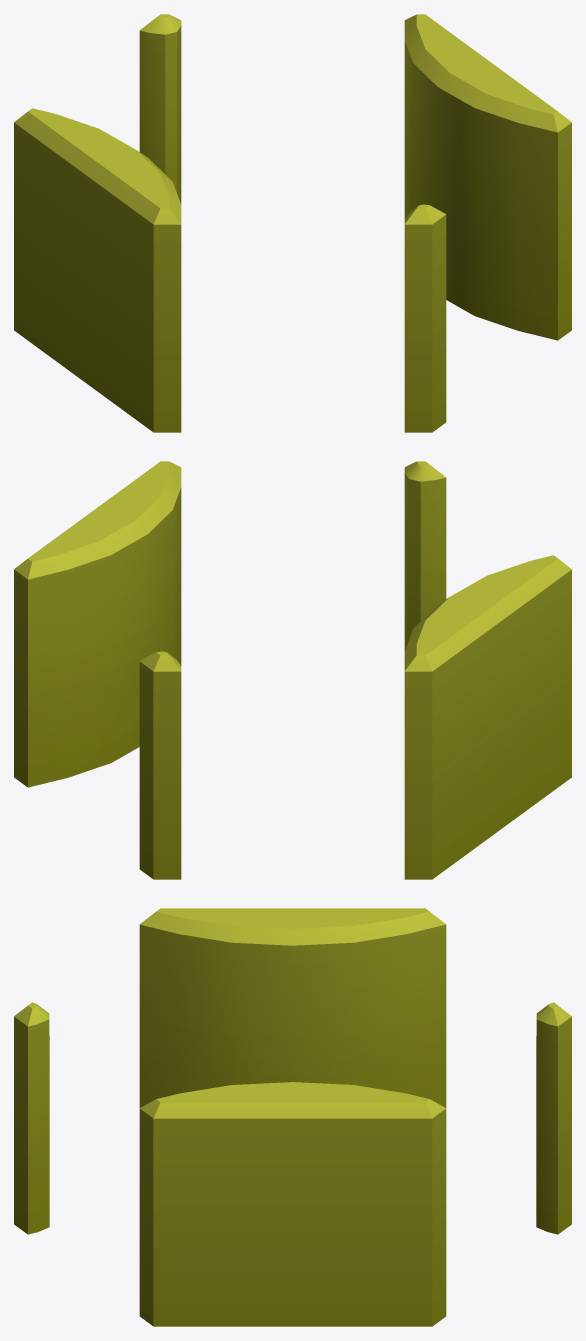
Rendered from kaykit-medieval-hexagon-pack-hex-river-i-waterless.glb.
The picture shows the model from 3 angles, top to bottom: view 1: azimuth 30°, elevation 25°; view 2: azimuth 150°, elevation 25°; view 3: azimuth 270°, elevation 25°; orthographic projection.
Visible parts, largest first — view 1: hex_river_I_waterless; view 2: hex_river_I_waterless; view 3: hex_river_I_waterless.
Boxes of the visible parts, box(x1,y1,x2,y2) form: hex_river_I_waterless: box(14, 14, 571, 432); hex_river_I_waterless: box(14, 461, 571, 879); hex_river_I_waterless: box(14, 908, 571, 1326).
Bounding box in the file's own units: 2 × 1 × 2.31.
Materials: 1 (1 with a texture image).
